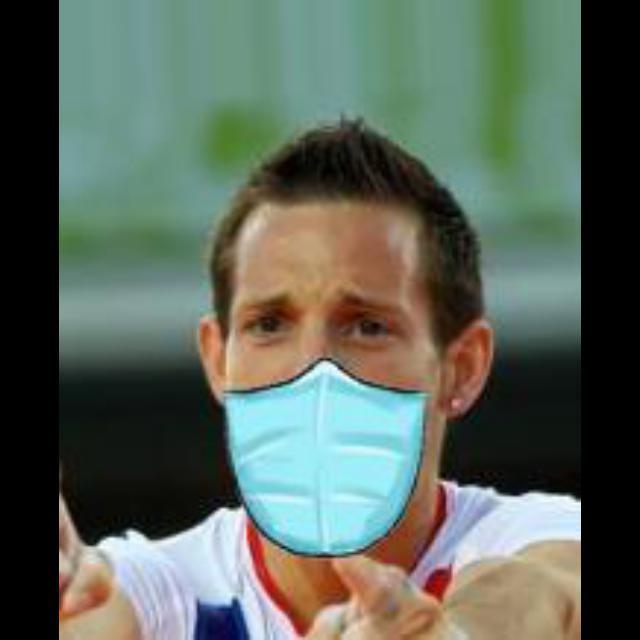suspicion: (155, 146, 498, 592)
